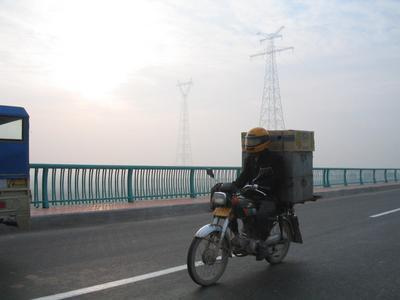person: (230, 126, 284, 241)
